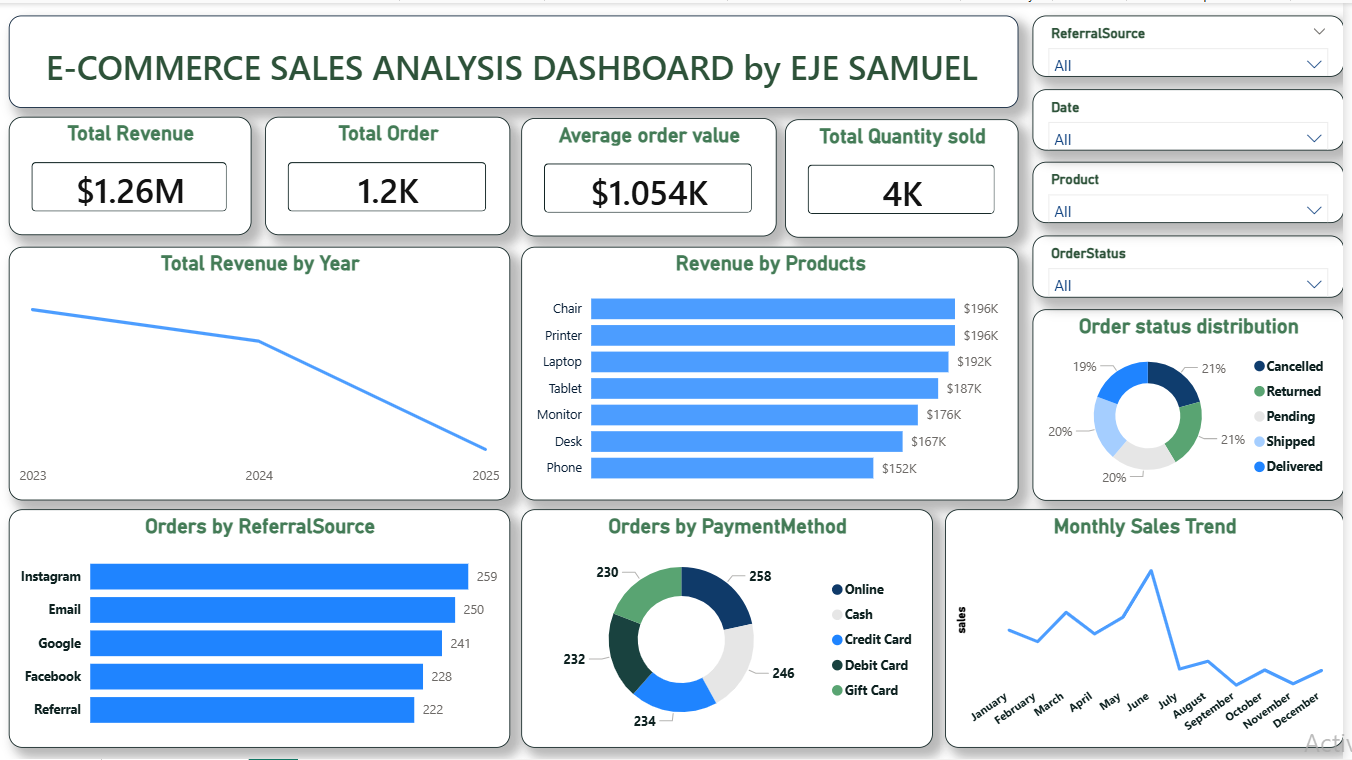

The page's visual inventory and layout, read from the dashboard file:
{"tool":"powerbi","page":{"name":"DASHBOARD","canvas":[1280,720],"ordinal":0},"visuals":[{"type":"textbox","box":[8.3,11.9,961.9,88.1],"z":0},{"type":"cardVisual","title":"Total Revenue","fields":{"Data":["Decode_lab_project1_cleaned.Total Revenue"]},"box":[8.3,108.3,231,113.1],"z":1000},{"type":"cardVisual","title":"Total Order","fields":{"Data":["Decode_lab_project1_cleaned.Total Orders"]},"box":[252.4,108.3,233.3,113.1],"z":2000},{"type":"cardVisual","title":"Average order value","fields":{"Data":["Decode_lab_project1_cleaned.Average Order Value"]},"box":[496.4,109.5,242.9,113.1],"z":3000},{"type":"cardVisual","title":"Total Quantity sold","fields":{"Data":["Decode_lab_project1_cleaned.Total Quantity sold"]},"box":[747.6,110.7,222.6,113.1],"z":4000},{"type":"lineChart","fields":{"Y":["Decode_lab_project1_cleaned.Total Revenue"],"Category":["Decode_lab_project1_cleaned.Date.Variation.Date Hierarchy.Year"]},"box":[8.3,232.1,477.4,241.7],"z":5000},{"type":"clusteredBarChart","title":"Revenue by Products","fields":{"Category":["Decode_lab_project1_cleaned.Product"],"Y":["Decode_lab_project1_cleaned.Total Revenue"]},"box":[496.4,232.1,473.8,241.7],"z":6000},{"type":"donutChart","title":"Order status distribution","fields":{"Category":["Decode_lab_project1_cleaned.OrderStatus"],"Y":["Decode_lab_project1_cleaned.Total Orders"]},"box":[983.3,291.7,296.4,182.1],"z":7000},{"type":"clusteredBarChart","title":"Orders by ReferralSource","fields":{"Category":["Decode_lab_project1_cleaned.ReferralSource"],"Y":["Decode_lab_project1_cleaned.Total Orders"]},"box":[8.3,482.1,477.4,227.4],"z":8000},{"type":"donutChart","title":"Orders by PaymentMethod","fields":{"Category":["Decode_lab_project1_cleaned.PaymentMethod"],"Y":["Decode_lab_project1_cleaned.Total Orders"]},"box":[496.4,482.1,391.7,227.4],"z":9000},{"type":"lineChart","title":"Monthly Sales Trend","fields":{"Category":["Decode_lab_project1_cleaned.Date.Variation.Date Hierarchy.Month"],"Y":["Decode_lab_project1_cleaned.Total Quantity sold"]},"box":[900,482.1,379.8,227.4],"z":10000},{"type":"slicer","fields":{"Values":["Decode_lab_project1_cleaned.ReferralSource"]},"box":[983.3,11.9,296.4,58.3],"z":11000},{"type":"slicer","fields":{"Values":["Decode_lab_project1_cleaned.OrderStatus"]},"box":[983.3,221.4,296.4,59.5],"z":12000},{"type":"slicer","fields":{"Values":["Decode_lab_project1_cleaned.Product"]},"box":[983.3,151.2,296.4,58.3],"z":13000},{"type":"slicer","fields":{"Values":["Decode_lab_project1_cleaned.Date"]},"box":[983.3,82.1,296.4,58.3],"z":14000}]}

Visuals, with their boxes in screenshot pixels (x1, y1, x2, y2), scaled from the page's 1280x720 canvas onto the 1352x760 screenshot:
textbox: Rect(9, 13, 1025, 106)
"Total Revenue" cardVisual: Rect(9, 114, 253, 234)
"Total Order" cardVisual: Rect(267, 114, 513, 234)
"Average order value" cardVisual: Rect(524, 116, 781, 235)
"Total Quantity sold" cardVisual: Rect(790, 117, 1025, 236)
lineChart - Decode_lab_project1_cleaned.Total Revenue x Decode_lab_project1_cleaned.Date.Variation.Date Hierarchy.Year: Rect(9, 245, 513, 500)
"Revenue by Products" clusteredBarChart: Rect(524, 245, 1025, 500)
"Order status distribution" donutChart: Rect(1039, 308, 1351, 500)
"Orders by ReferralSource" clusteredBarChart: Rect(9, 509, 513, 749)
"Orders by PaymentMethod" donutChart: Rect(524, 509, 938, 749)
"Monthly Sales Trend" lineChart: Rect(951, 509, 1351, 749)
slicer - Decode_lab_project1_cleaned.ReferralSource: Rect(1039, 13, 1351, 74)
slicer - Decode_lab_project1_cleaned.OrderStatus: Rect(1039, 234, 1351, 297)
slicer - Decode_lab_project1_cleaned.Product: Rect(1039, 160, 1351, 221)
slicer - Decode_lab_project1_cleaned.Date: Rect(1039, 87, 1351, 148)
